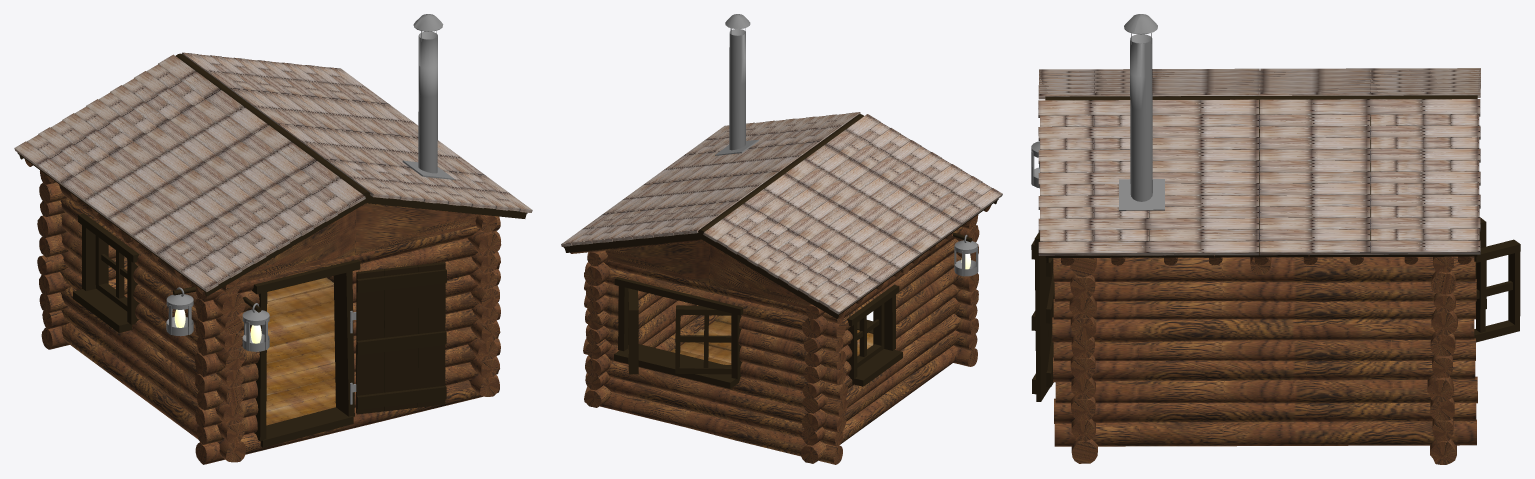
Rendered from cabane.glb.
The picture shows the model from 3 angles, left to right: view 1: azimuth 30°, elevation 25°; view 2: azimuth 150°, elevation 25°; view 3: azimuth 270°, elevation 25°; orthographic projection. The views are drawn at different scales.
Parts seen in each view (by area): view 1: cabane; view 2: cabane; view 3: cabane.
Boxes of the visible parts, bbox=[...] form: cabane: bbox=[14, 14, 532, 464]; cabane: bbox=[561, 14, 1002, 464]; cabane: bbox=[1031, 14, 1520, 464].
Bounding box in the file's own units: 4.96 × 5.31 × 5.53.
8 materials, 3 textured.
